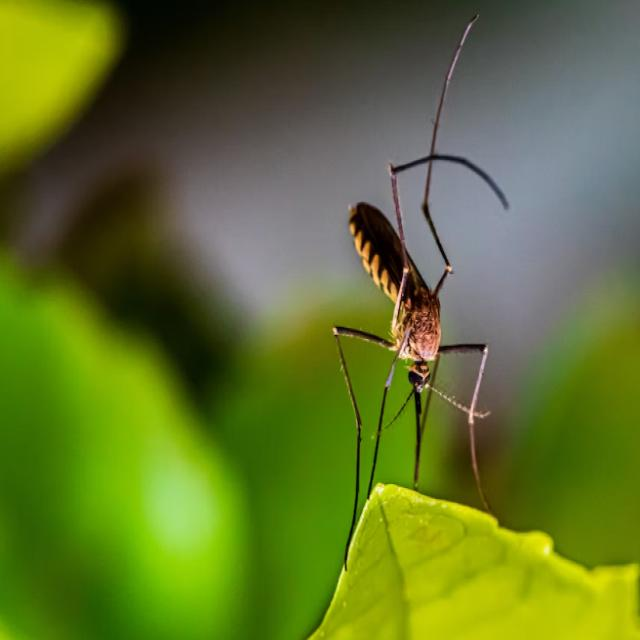Mosquito: (320, 22, 528, 596)
